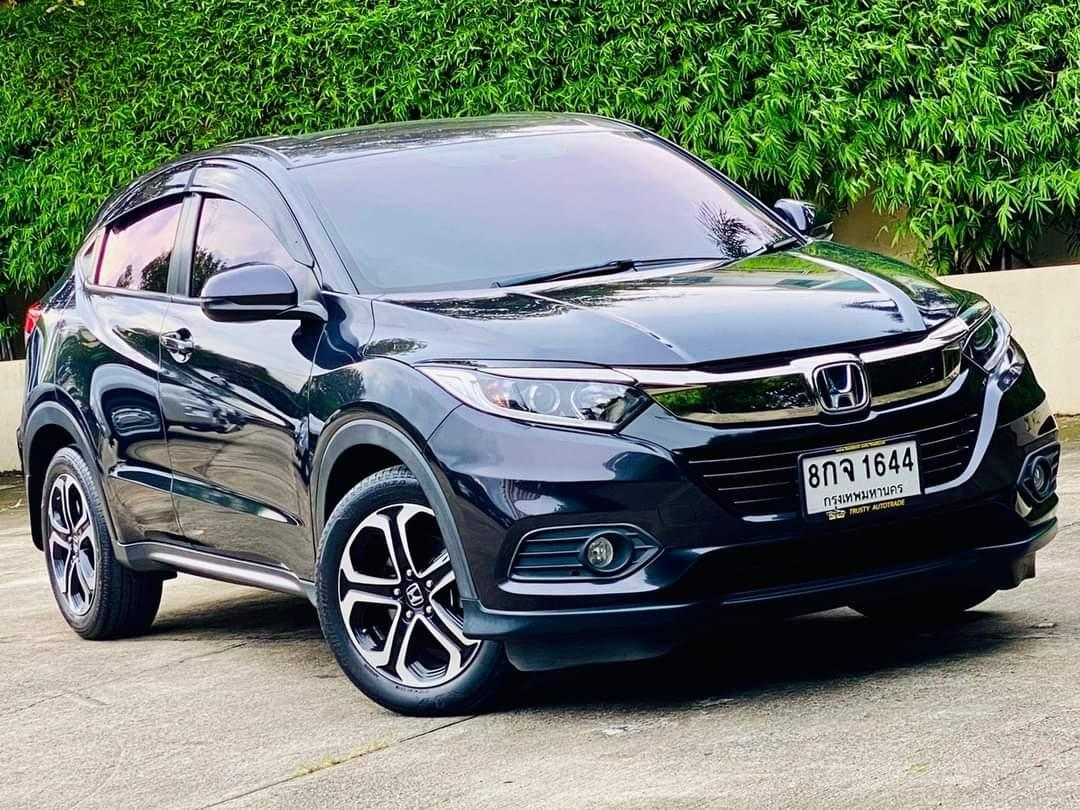license-plate: (797, 434, 927, 528)
